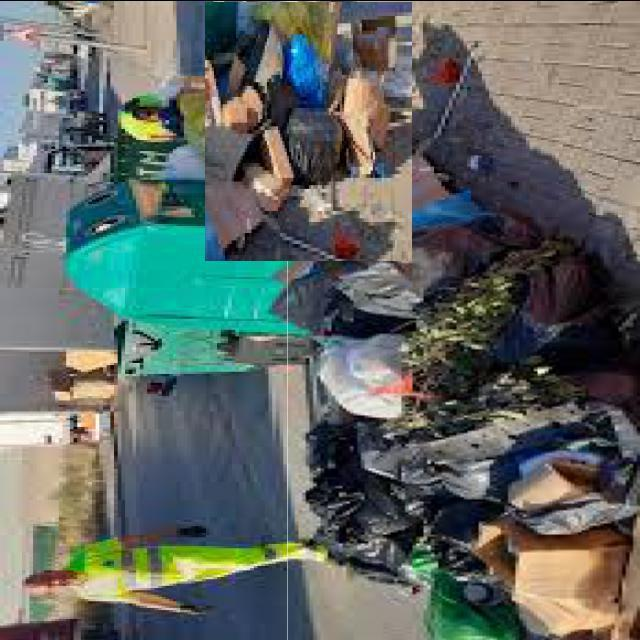Trashbag: (306, 406, 415, 589), (286, 107, 350, 186)
